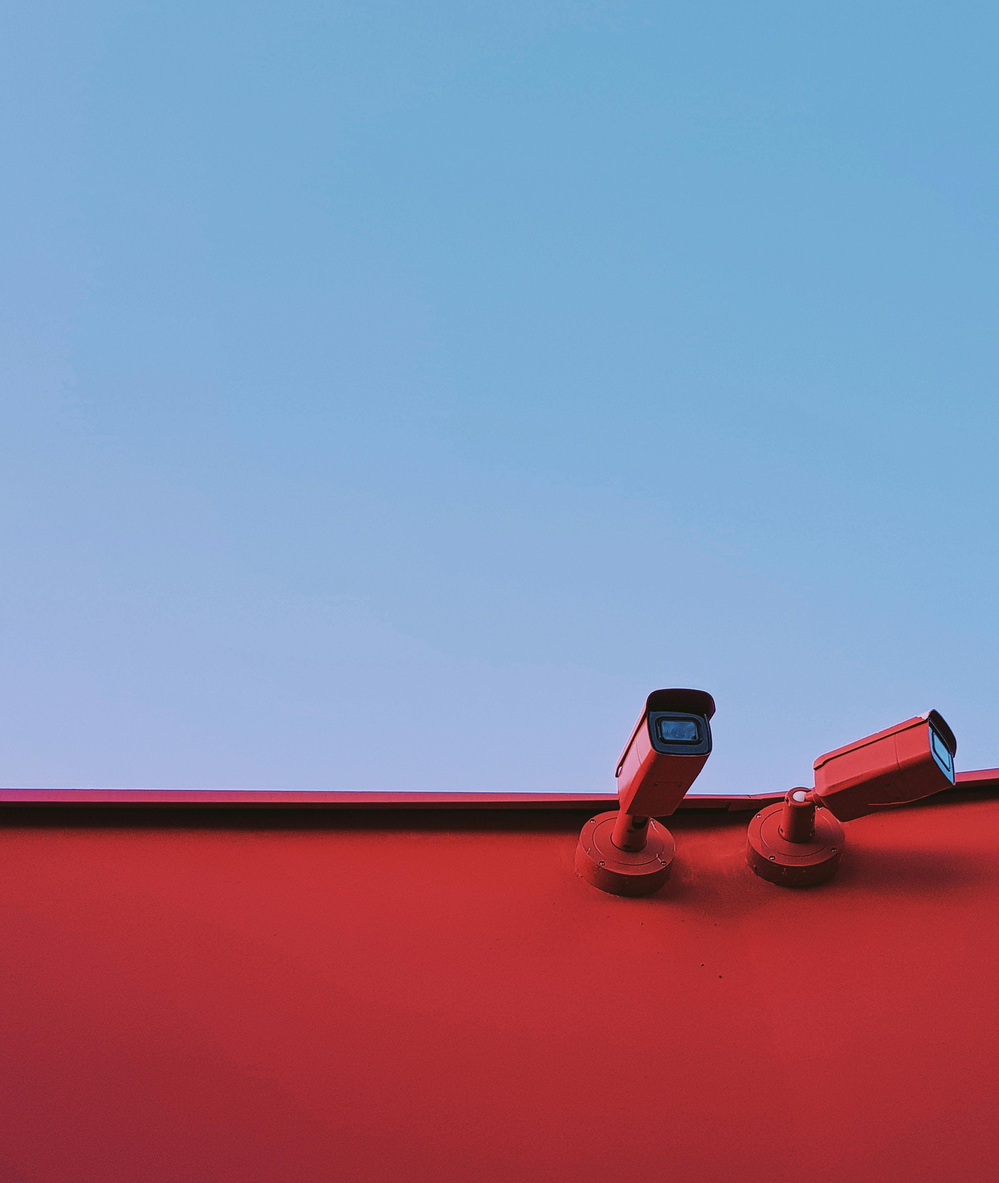camera: (535, 627, 740, 951), (780, 631, 971, 954)
